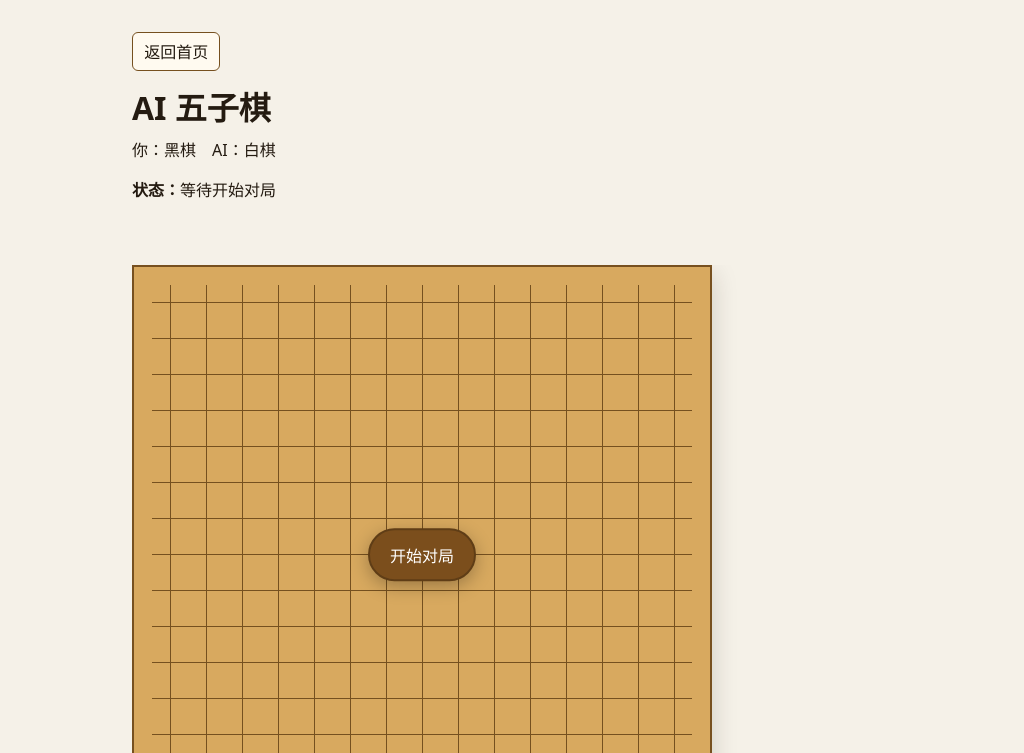
Test: App › bypasses the Agent when local search proves a deterministic move
The width and height of the screenshot is (1024, 753).
Click the button with class "start-on-board" at (422, 555), box [368,528,476,582]
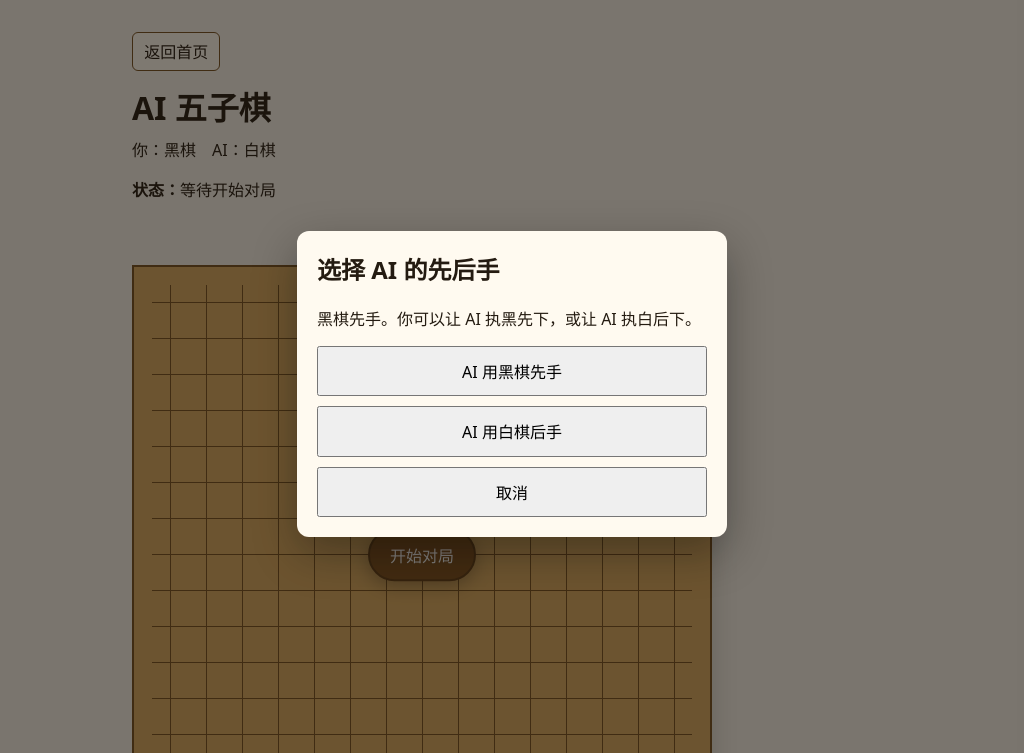
Click the button "AI 用白棋后手" at (512, 432), box [317,406,707,457]
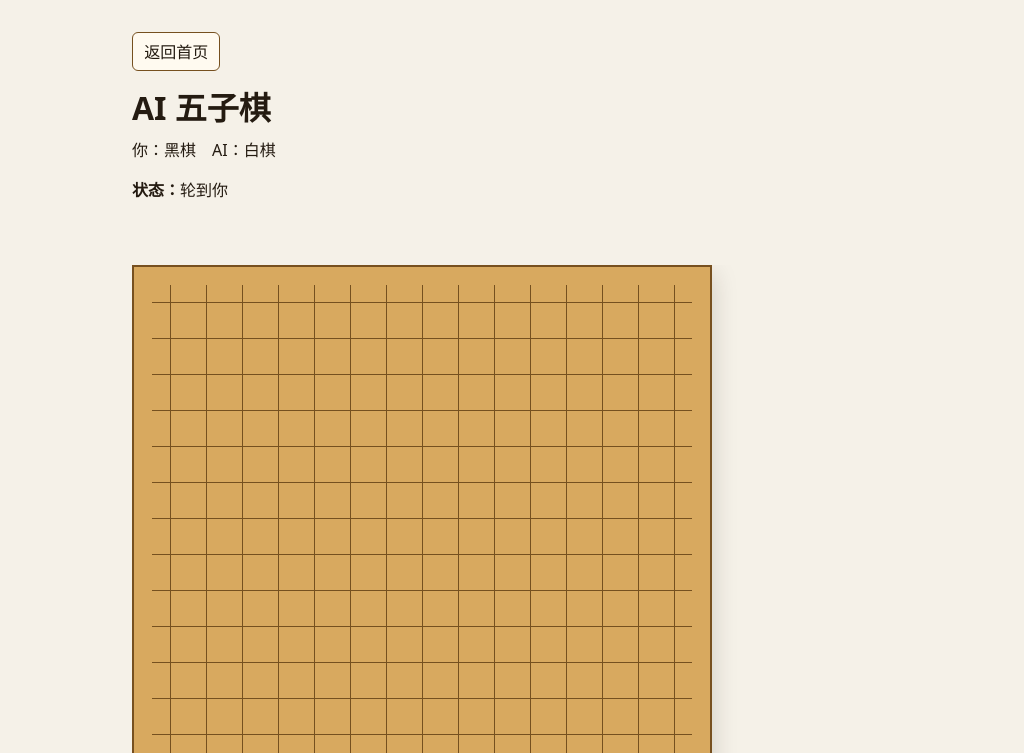
Click the cell named "第 1 行第 1 列，空位" at (170, 303), box [152,285,188,321]
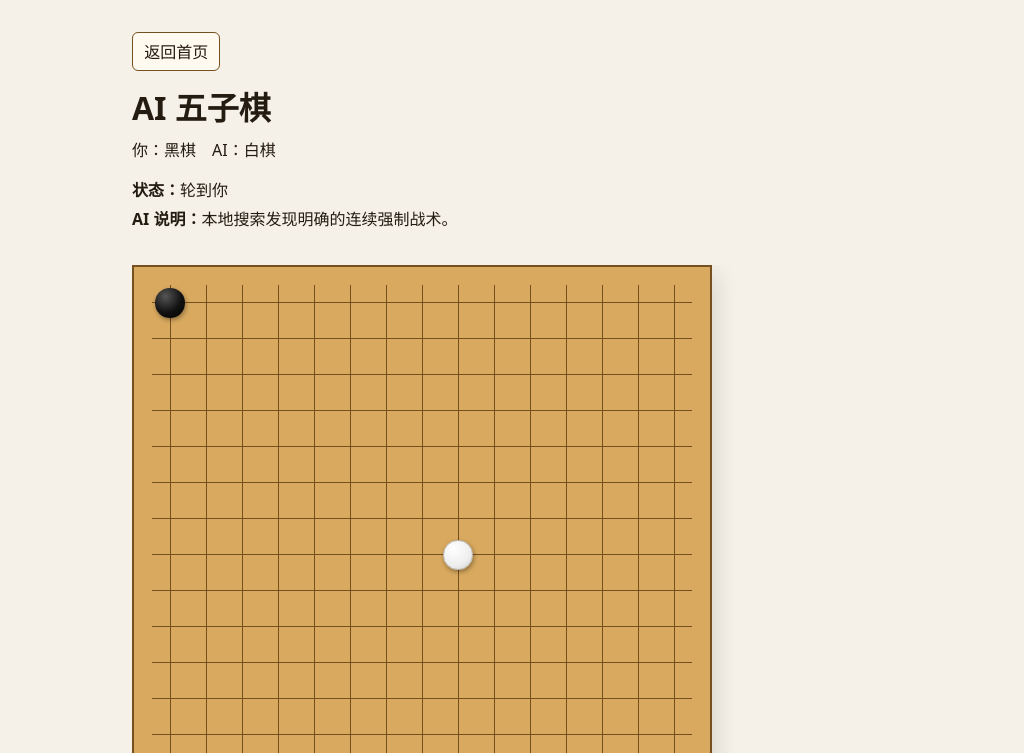
Check: the text "连续强制战术" is shown, box [201,208,457,230]
